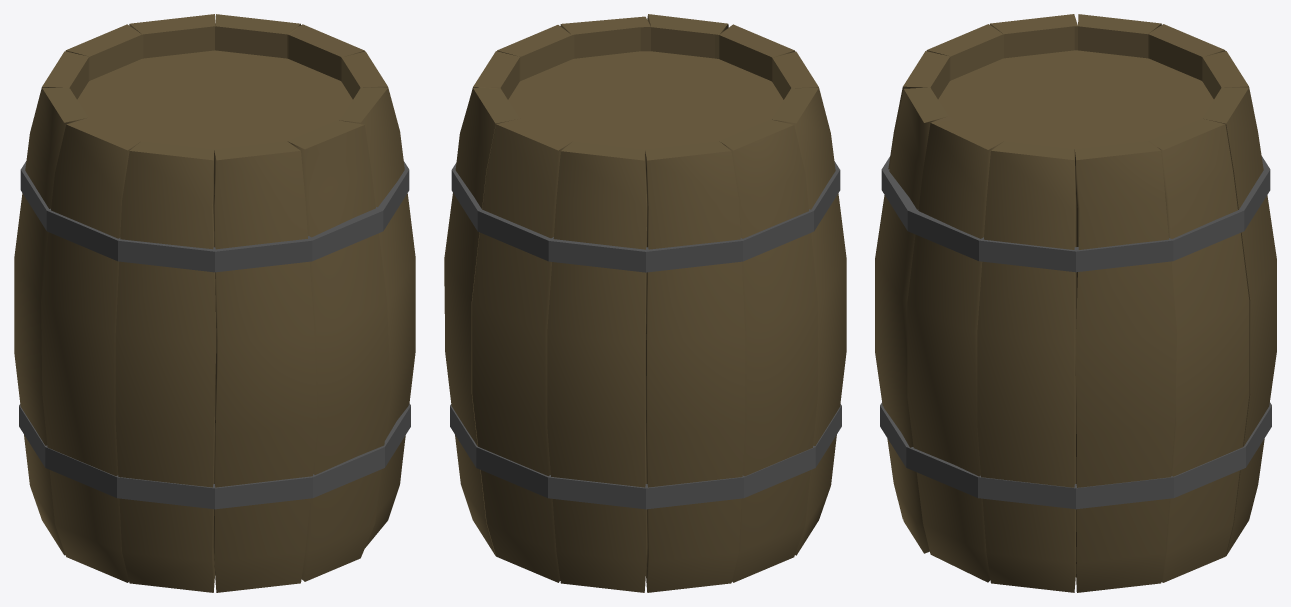
File: Wood_Barrel.fbx
The picture shows the model from 3 angles, left to right: view 1: azimuth 30°, elevation 25°; view 2: azimuth 150°, elevation 25°; view 3: azimuth 270°, elevation 25°; orthographic projection.
Parts seen in each view (by area): view 1: pCylinder1, pCylinder2, pCylinder3; view 2: pCylinder1, pCylinder2, pCylinder3; view 3: pCylinder1, pCylinder2, pCylinder3.
Boxes of the visible parts, <box> form: pCylinder1: <box>14,14,415,592</box>; pCylinder2: <box>20,161,409,272</box>; pCylinder3: <box>19,403,410,509</box>; pCylinder1: <box>444,14,846,592</box>; pCylinder2: <box>451,161,840,272</box>; pCylinder3: <box>450,404,841,509</box>; pCylinder1: <box>875,14,1276,592</box>; pCylinder2: <box>881,156,1270,272</box>; pCylinder3: <box>880,402,1271,509</box>.
Bounding box in the file's own units: 8.12 × 9.65 × 8.12.
